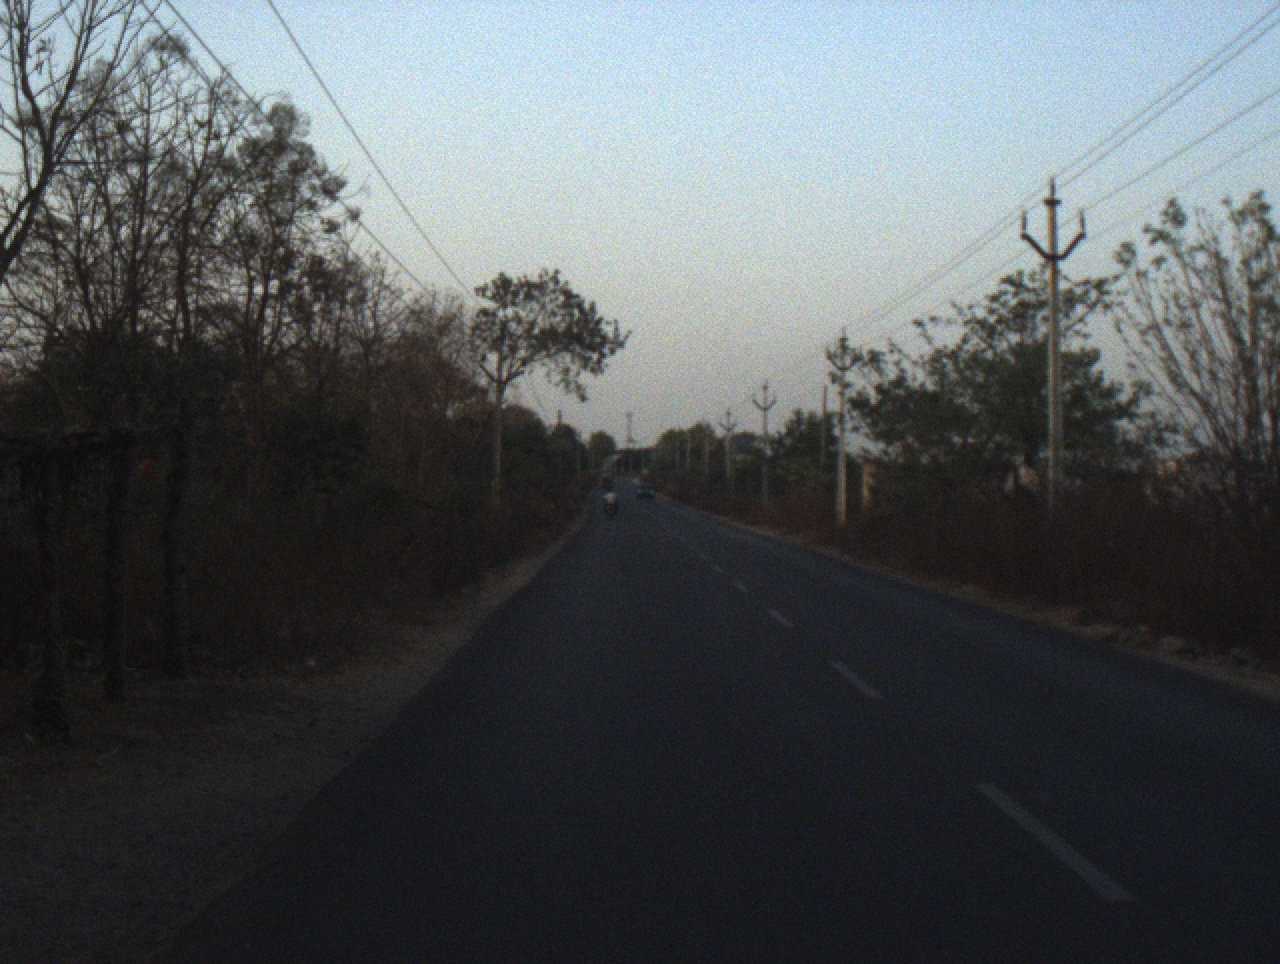autorickshaw: (600, 473, 616, 493)
car: (633, 482, 657, 501)
motorcycle: (604, 501, 620, 519)
rider: (603, 488, 621, 511)
